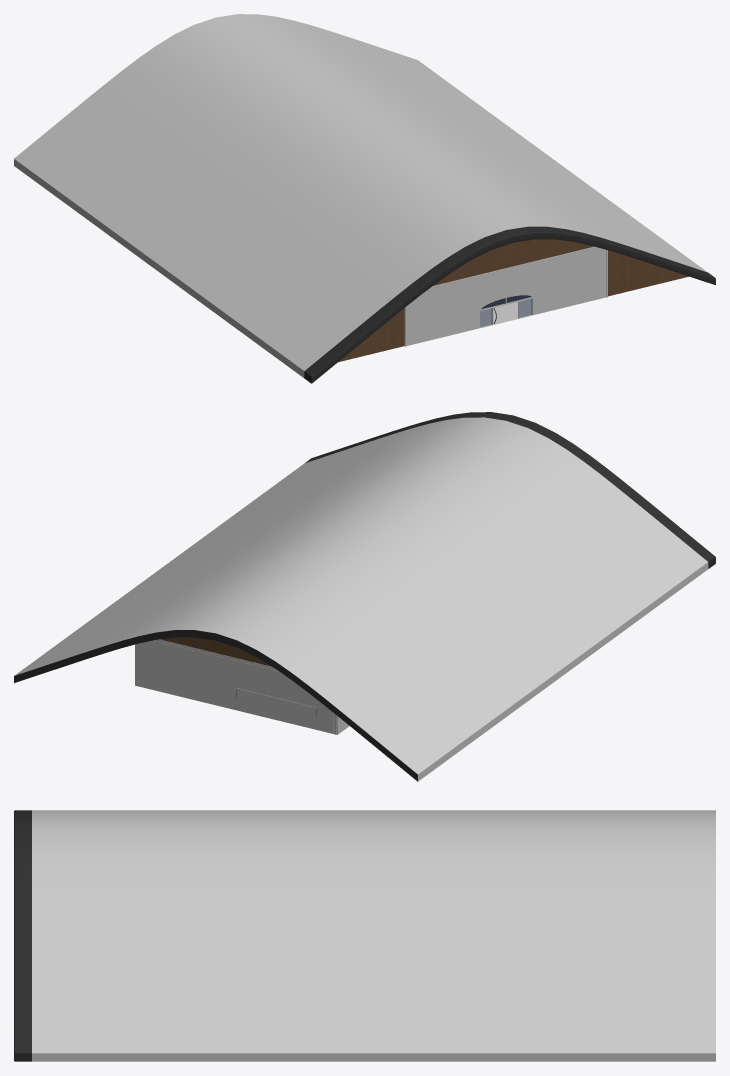
3 views of the same model, one above another, from view 1: azimuth 30°, elevation 25°; view 2: azimuth 150°, elevation 25°; view 3: azimuth 270°, elevation 25° (orthographic). The views are drawn at different scales.
Parts seen in each view (by area): view 1: ROOF, WALL_FRONT, FRONT_SIDES, WALL_FRONT.001, FLOOR_COL, DOOR_GLASS; view 2: ROOF, WALL_INSIDE, WALL_INSIDE.001; view 3: ROOF.
Part boxes in pixels (x1,y1,x2,y2): ROOF: (14,14,715,383); WALL_FRONT: (406,246,606,345); FRONT_SIDES: (338,250,688,362); WALL_FRONT.001: (433,239,593,285); FLOOR_COL: (480,299,531,326); DOOR_GLASS: (480,295,532,327); ROOF: (14,412,715,781); WALL_INSIDE: (135,640,349,734); WALL_INSIDE.001: (160,637,271,666); ROOF: (14,810,715,1061).
Size of the model in its own units: 60.61 by 15.31 by 77.47.
